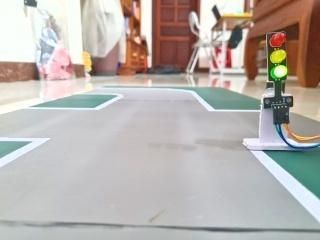green: (258, 26, 293, 92)
